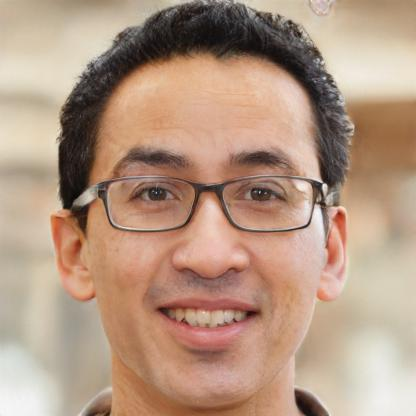glasses: (92, 172, 322, 238)
